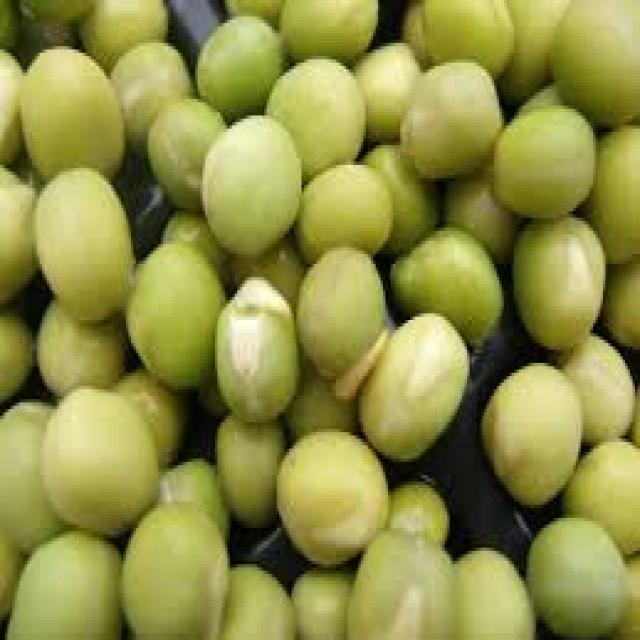biodegradable: (40, 386, 158, 538), (353, 310, 467, 455), (477, 350, 581, 502), (32, 165, 131, 323), (116, 498, 227, 637), (121, 241, 222, 389), (198, 112, 299, 257), (274, 432, 383, 564), (292, 244, 386, 393), (17, 43, 124, 171), (509, 211, 605, 347), (521, 515, 628, 637), (259, 53, 366, 172), (388, 225, 499, 337), (344, 525, 452, 637), (5, 531, 119, 637), (213, 271, 297, 413), (400, 56, 499, 172), (489, 102, 591, 211), (425, 538, 536, 637), (551, 0, 638, 122), (109, 33, 190, 152), (143, 92, 225, 208), (559, 432, 638, 551), (35, 290, 124, 393), (289, 159, 391, 248), (213, 402, 284, 528), (193, 10, 279, 112), (496, 0, 575, 102), (361, 139, 437, 244), (581, 125, 638, 264), (564, 333, 633, 442), (114, 363, 188, 458), (440, 162, 516, 254), (282, 347, 356, 436), (158, 449, 232, 535), (74, 0, 168, 66), (353, 40, 415, 139), (218, 558, 294, 637), (274, 0, 376, 56), (282, 558, 353, 637), (0, 162, 37, 307), (158, 205, 227, 277), (383, 479, 447, 555), (598, 248, 638, 347), (423, 0, 487, 56), (0, 43, 22, 162), (0, 307, 27, 396), (15, 0, 96, 23), (522, 73, 569, 112), (620, 554, 638, 637), (220, 0, 282, 23), (0, 0, 22, 53), (630, 370, 638, 446)
